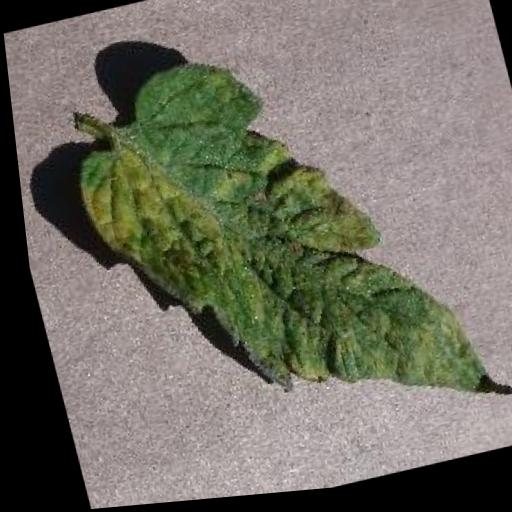Leaf Mold: (49, 12, 512, 485)
